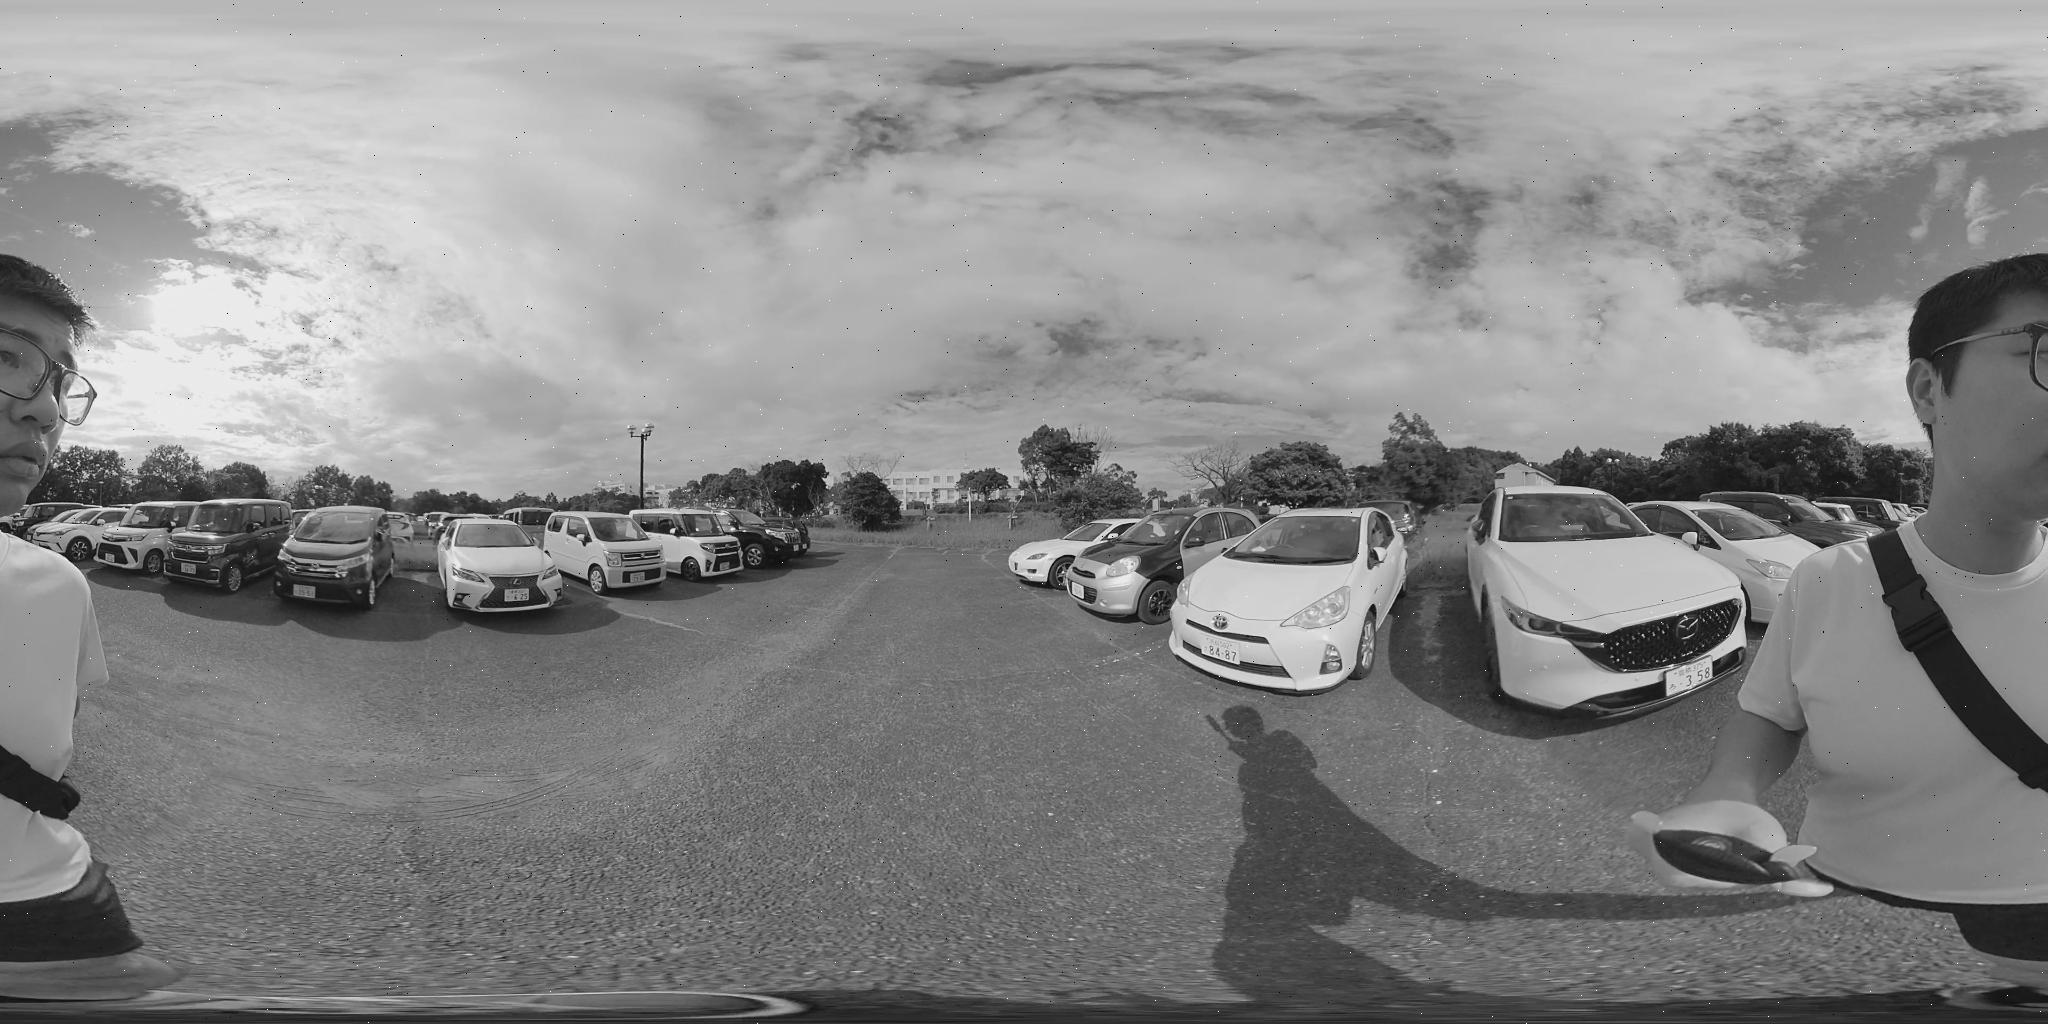car: (1467, 485, 1759, 716), (1168, 507, 1421, 695), (1631, 500, 1830, 618), (1068, 512, 1267, 626), (136, 502, 294, 589), (277, 509, 398, 606), (438, 521, 566, 613), (1694, 492, 1861, 546), (1010, 519, 1139, 588), (549, 512, 662, 589), (641, 508, 767, 576), (22, 504, 140, 563), (741, 515, 815, 558)
